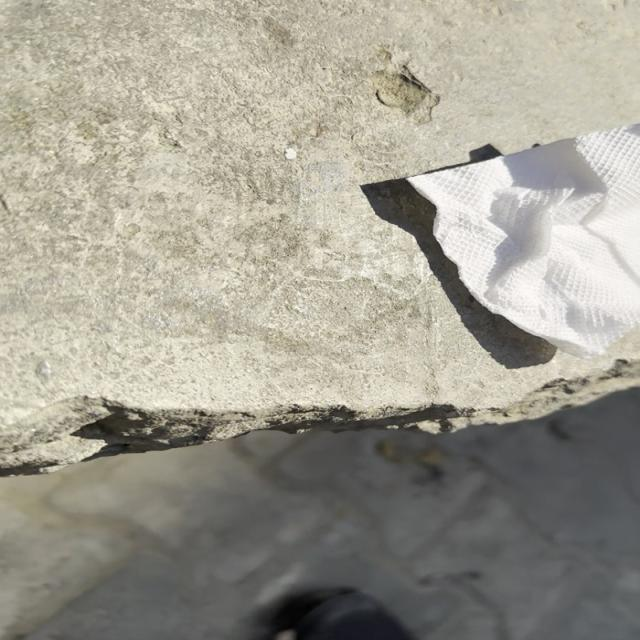tissue: (407, 116, 640, 355)
